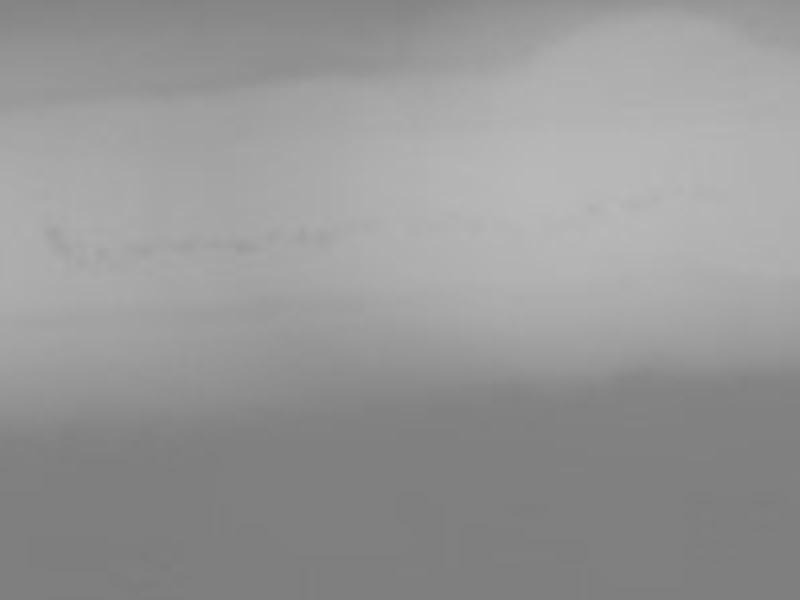defect: (292, 222, 330, 252), (39, 220, 69, 255), (230, 234, 261, 256), (69, 244, 91, 269), (126, 242, 158, 259), (170, 237, 193, 257), (92, 246, 115, 265), (582, 199, 604, 216), (646, 190, 663, 211)
